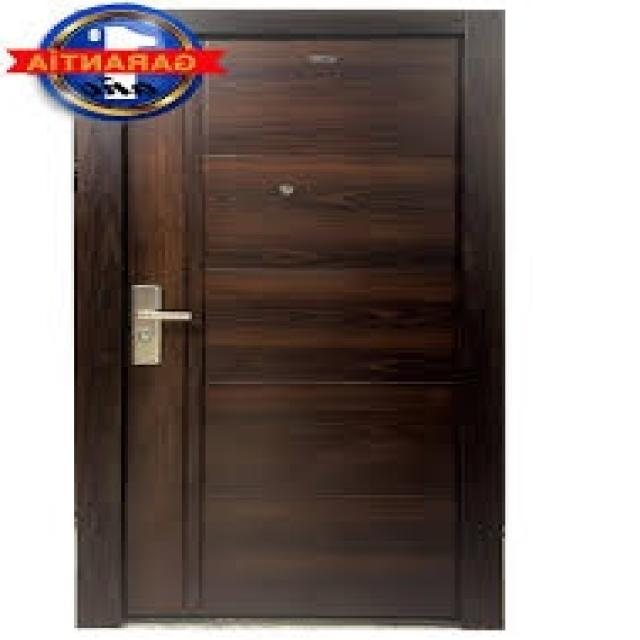door: (78, 9, 506, 629)
